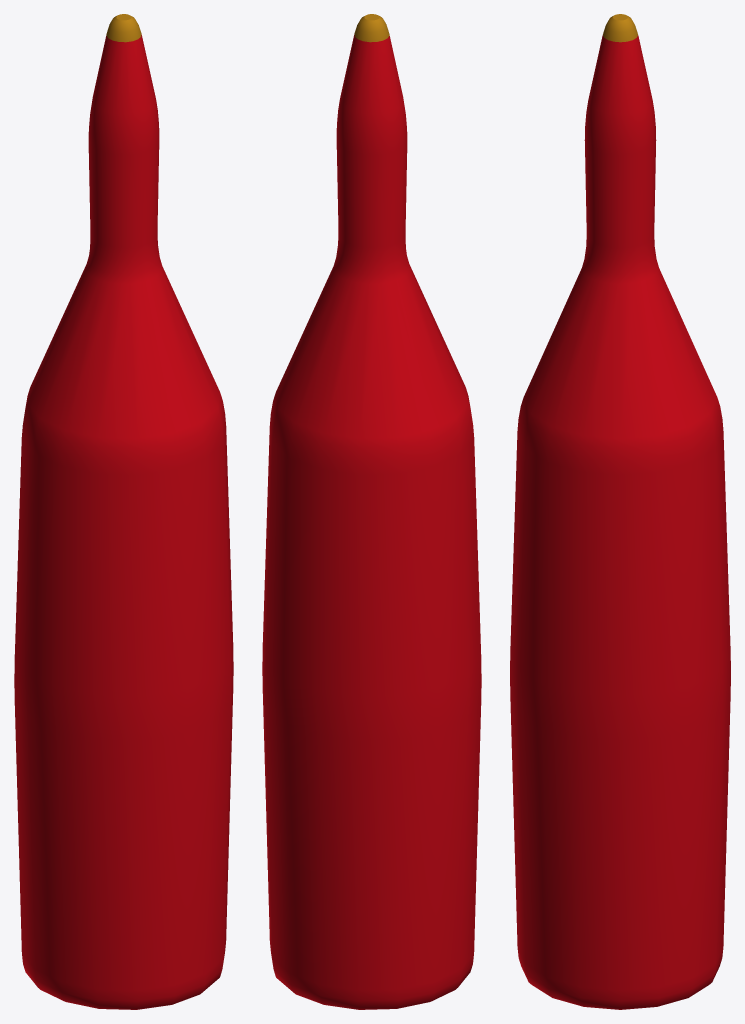
Rendered from Ketchup.fbx.
3 views of the same model, side by side, from view 1: azimuth 30°, elevation 25°; view 2: azimuth 150°, elevation 25°; view 3: azimuth 270°, elevation 25° (orthographic).
Parts seen in each view (by area): view 1: Ketchup; view 2: Ketchup; view 3: Ketchup.
Part boxes in pixels (<box>): Ketchup: <box>14,14,233,1009</box>; Ketchup: <box>262,14,481,1009</box>; Ketchup: <box>510,14,730,1009</box>.
Bounding box in the file's own units: 27.32 × 130 × 27.32.
